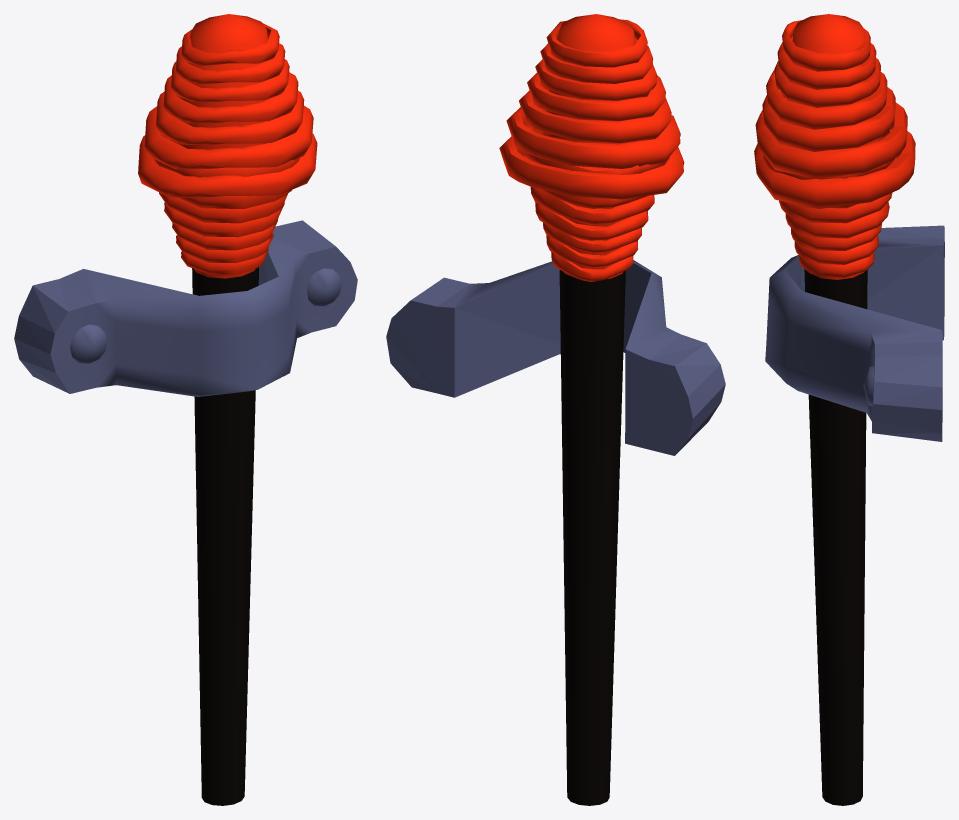
Rendered from TorchWall_9.fbx.
The picture shows the model from 3 angles, left to right: view 1: azimuth 30°, elevation 25°; view 2: azimuth 150°, elevation 25°; view 3: azimuth 270°, elevation 25°; orthographic projection.
Visible parts, largest first — view 1: TorchWall_9; view 2: TorchWall_9; view 3: TorchWall_9.
Boxes of the visible parts, x1=… form: TorchWall_9: x1=14, y1=14, x2=357, y2=805; TorchWall_9: x1=386, y1=14, x2=725, y2=805; TorchWall_9: x1=754, y1=14, x2=944, y2=805.
Size of the model in its own units: 19.81 by 10.57 by 48.16.
